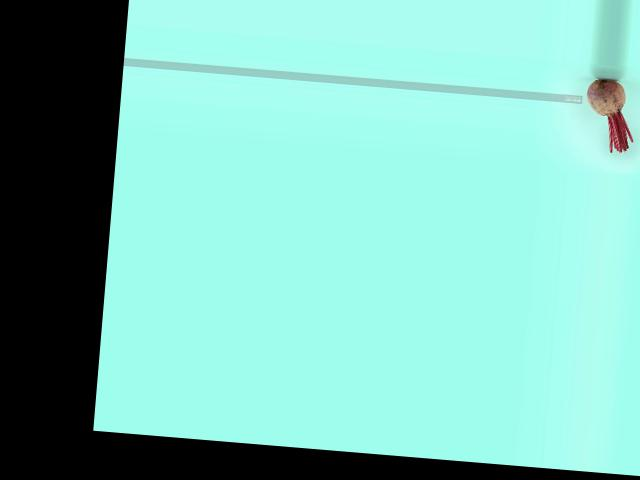beet: (581, 77, 637, 154)
